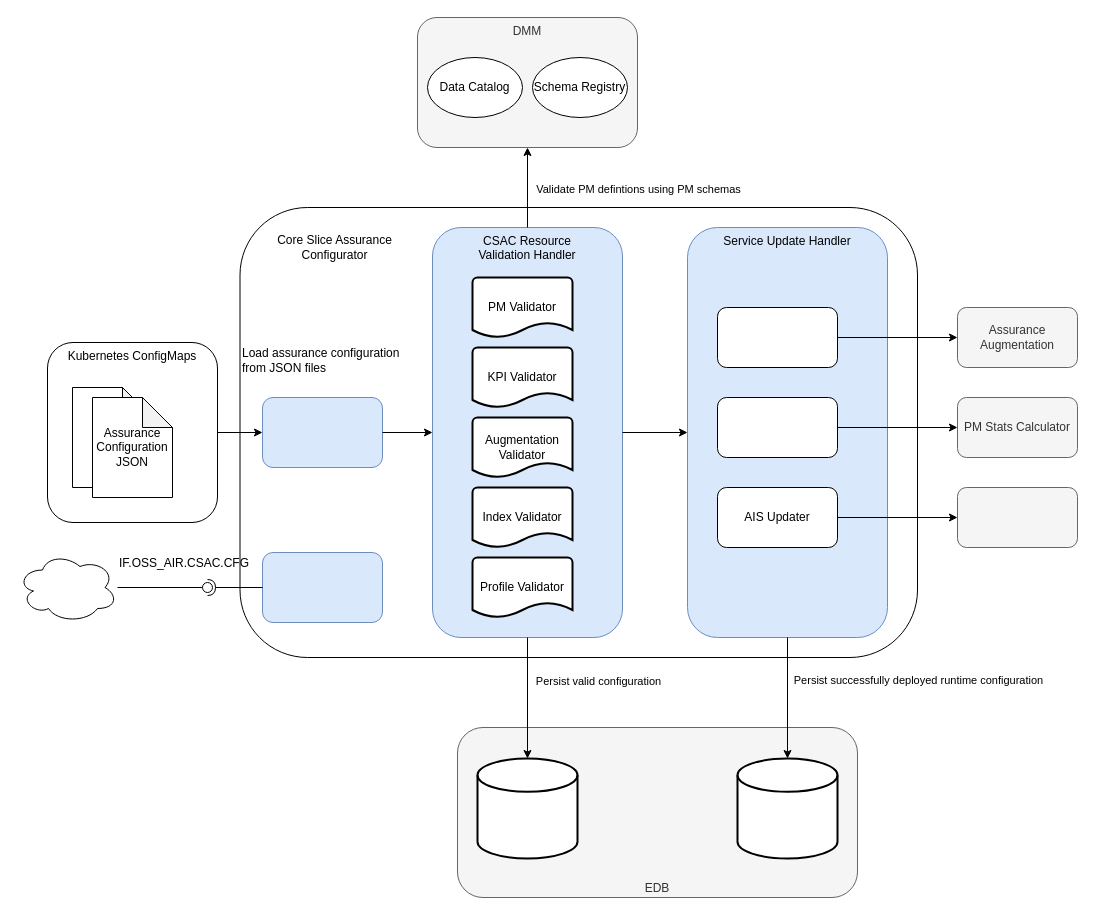
Some shapes in this 1095 by 915 pixel diagram are drawn without their labels. Here are the shapes that lost their labels. From the top down, the centre of each, then its label:
At (777,337): "AAS Updater".
At (322,432): "Resource File Loader".
At (777,427): "PMSC Updater".
At (1017,517): "Assurance Indexing".
At (322,587): "REST API".
At (527,808): "Data Dictionary".
At (787,808): "Runtime Data Store".
